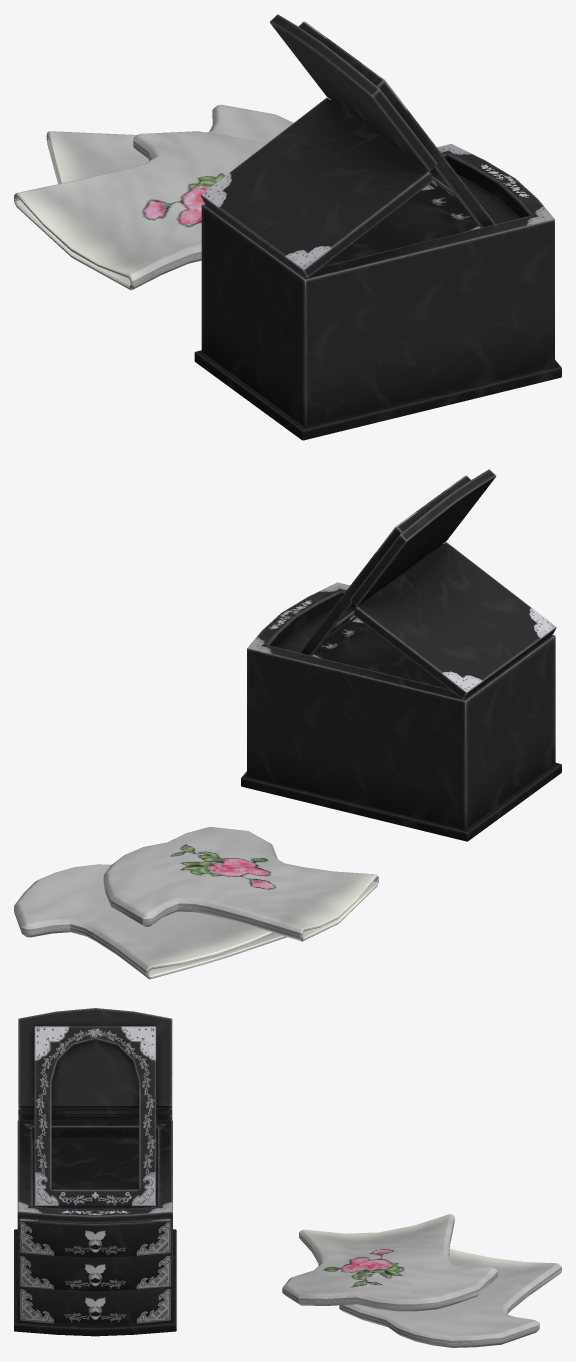
Rendered from TraditionalKoreanHouse_Dresser.fbx.
3 views of the same model, one above another, from view 1: azimuth 30°, elevation 25°; view 2: azimuth 150°, elevation 25°; view 3: azimuth 270°, elevation 25° (orthographic). The views are drawn at different scales.
Visible parts, largest first — view 1: TraditionalKoreanHouse_Dresser; view 2: TraditionalKoreanHouse_Dresser; view 3: TraditionalKoreanHouse_Dresser.
Boxes of the visible parts, x1,y1,x2,y2 form: TraditionalKoreanHouse_Dresser: (14,14,561,440); TraditionalKoreanHouse_Dresser: (14,469,561,979); TraditionalKoreanHouse_Dresser: (14,1008,561,1347).
Size of the model in its own units: 33.79 by 35.73 by 68.67.
